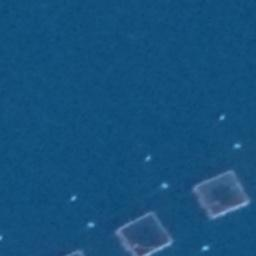square_cover: (190, 167, 253, 222), (112, 211, 177, 256)
